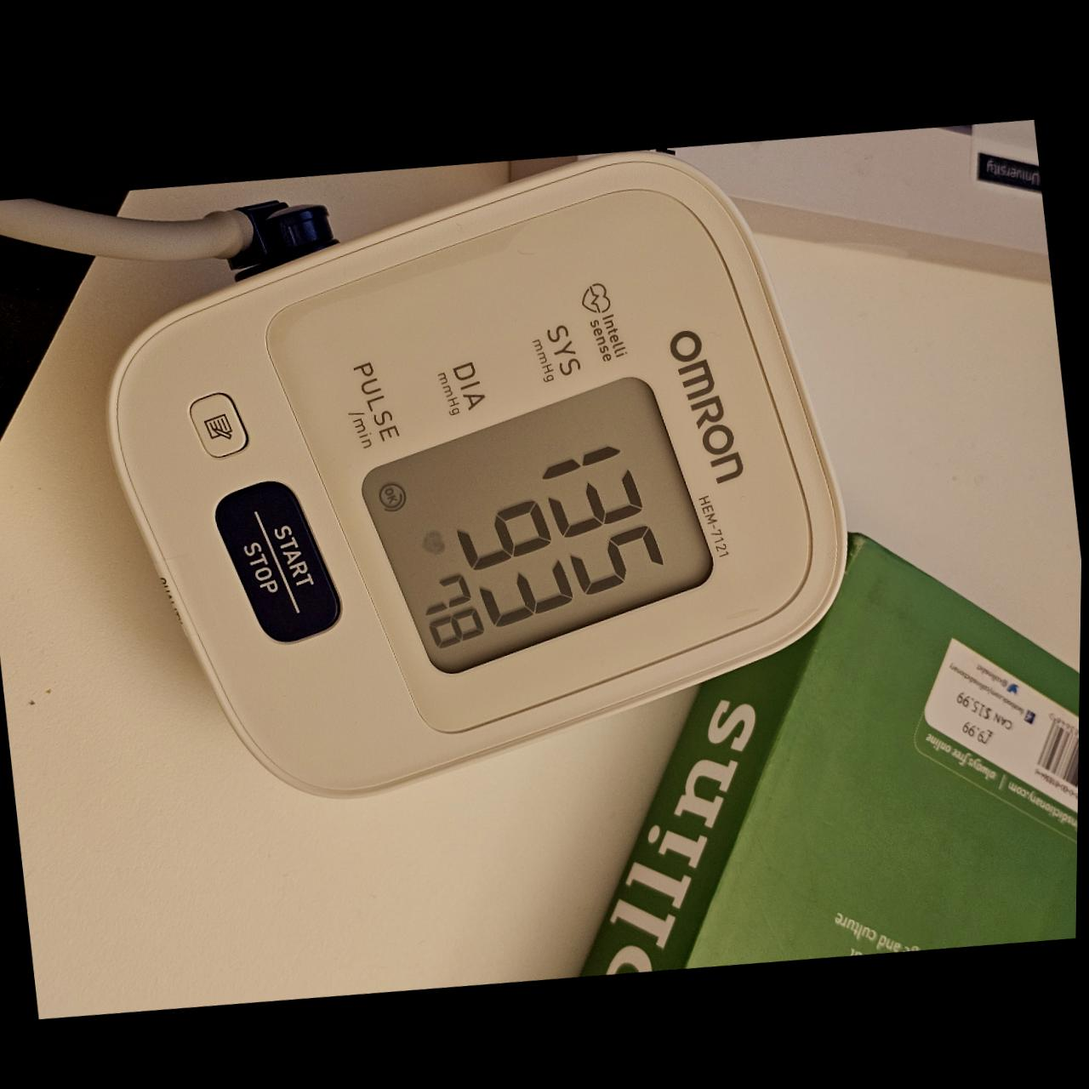blood pressure monitor: (68, 104, 882, 849)
